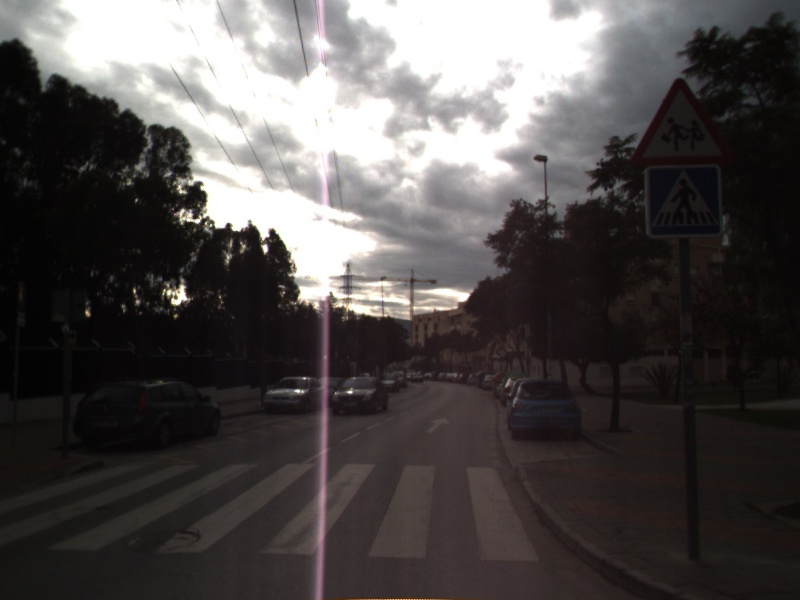STRAIGHT: (424, 415, 452, 435)
